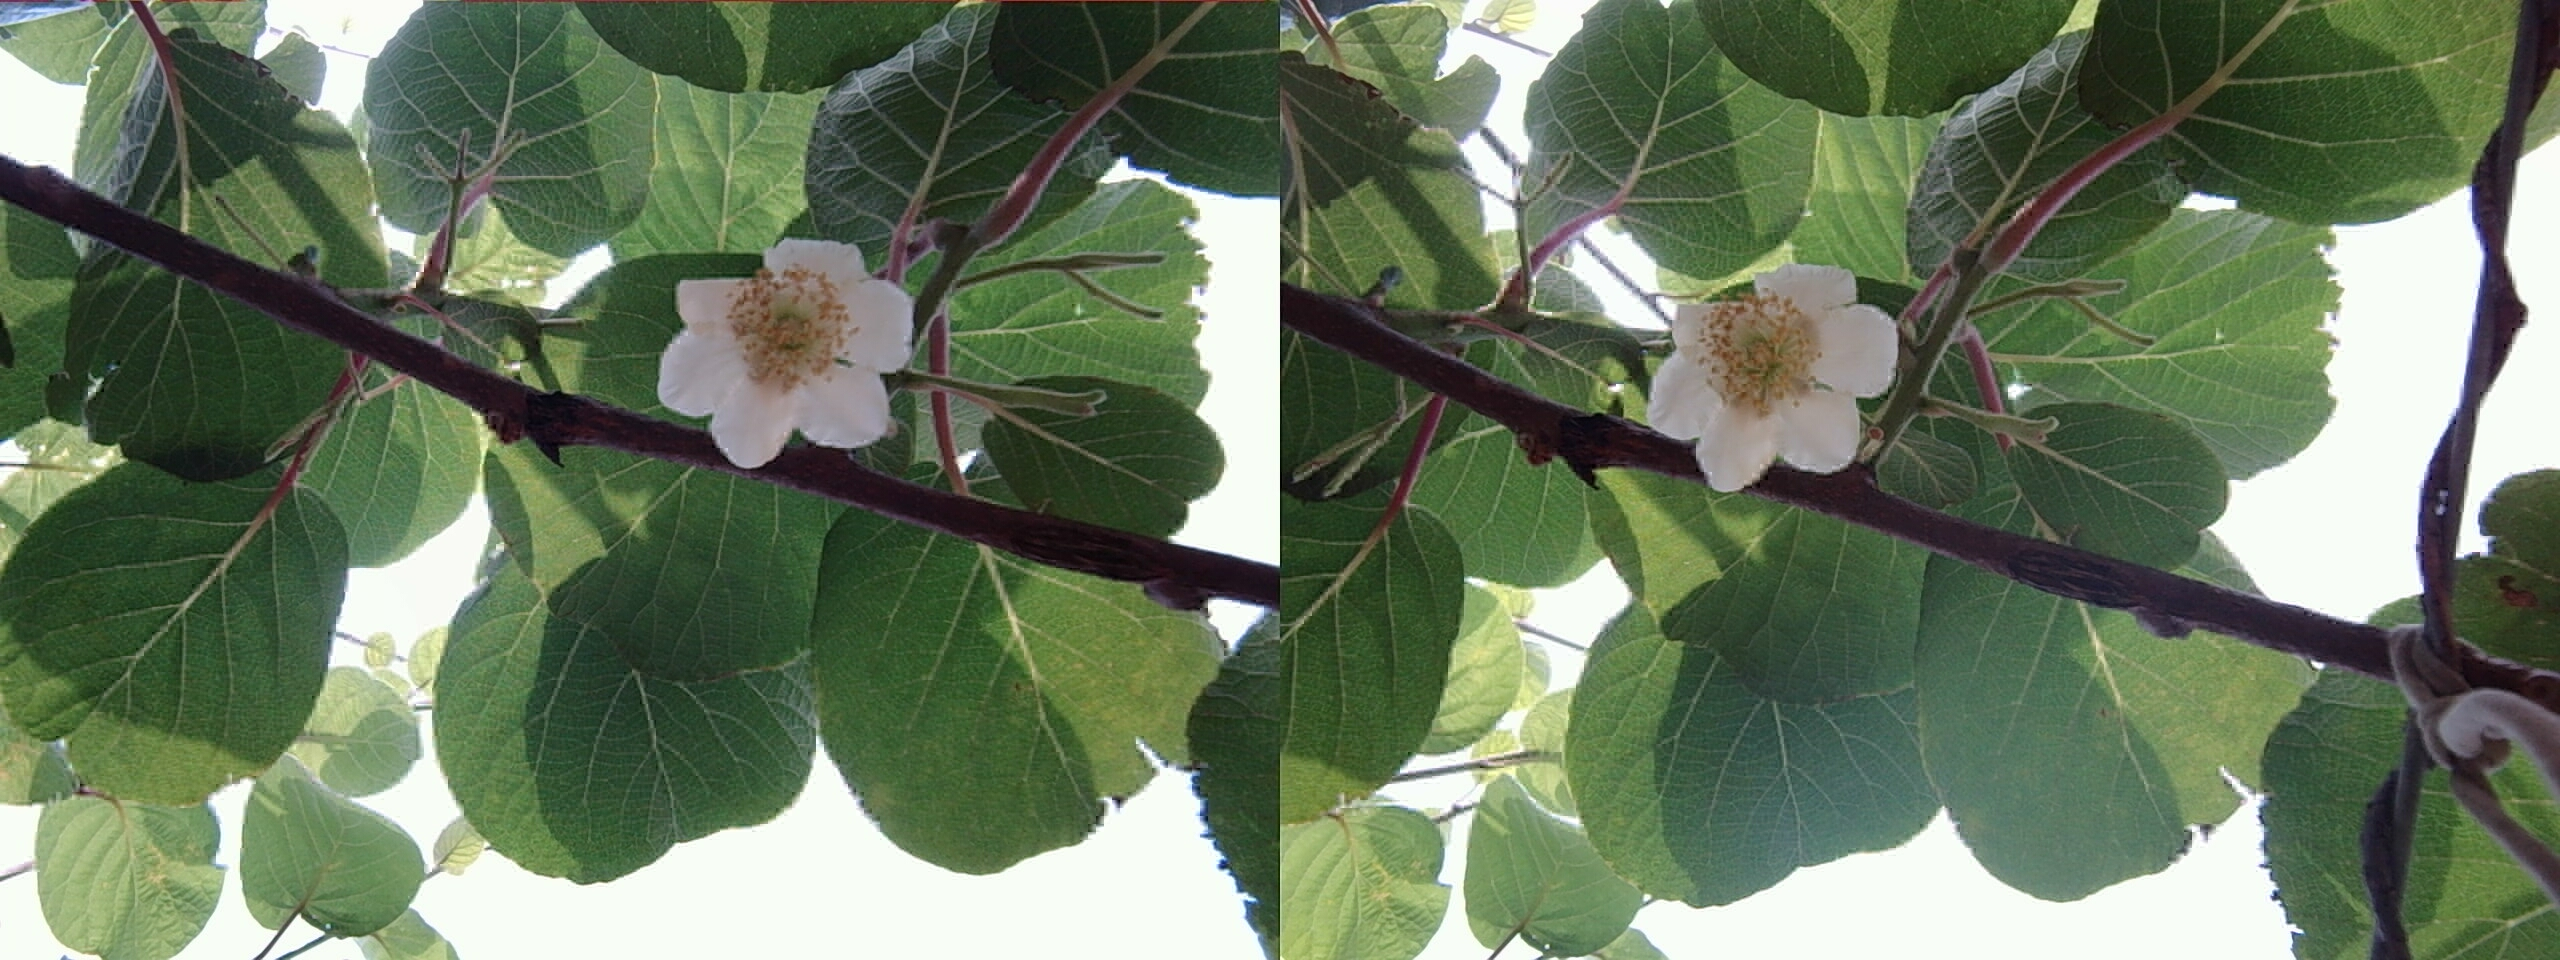flower: (651, 237, 908, 464), (1639, 258, 1891, 483)
